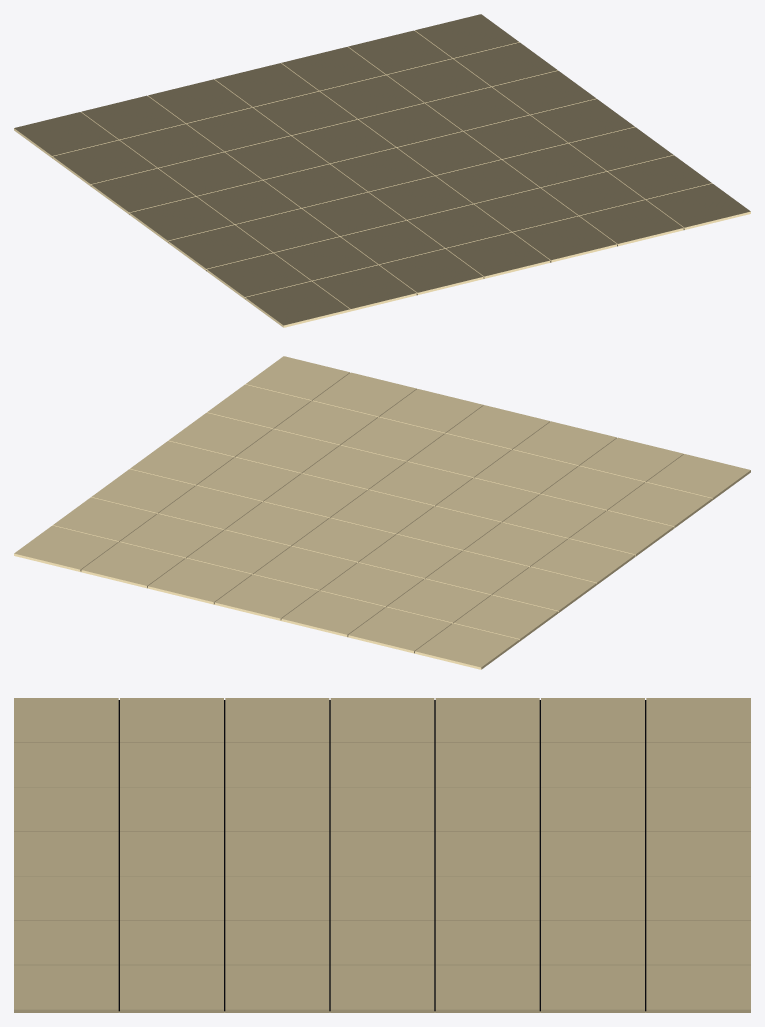
Rendered from Floor 12.fbx.
3 views of the same model, one above another, from view 1: azimuth 30°, elevation 25°; view 2: azimuth 150°, elevation 25°; view 3: azimuth 270°, elevation 25° (orthographic). The views are drawn at different scales.
Visible parts, largest first — view 1: Node 0; view 2: Node 0; view 3: Node 0.
Boxes of the visible parts, bbox=[...] form: Node 0: bbox=[14, 14, 750, 327]; Node 0: bbox=[14, 356, 750, 669]; Node 0: bbox=[14, 698, 750, 1012].
Size of the model in its own units: 5.21 by 0.0254 by 5.21.
